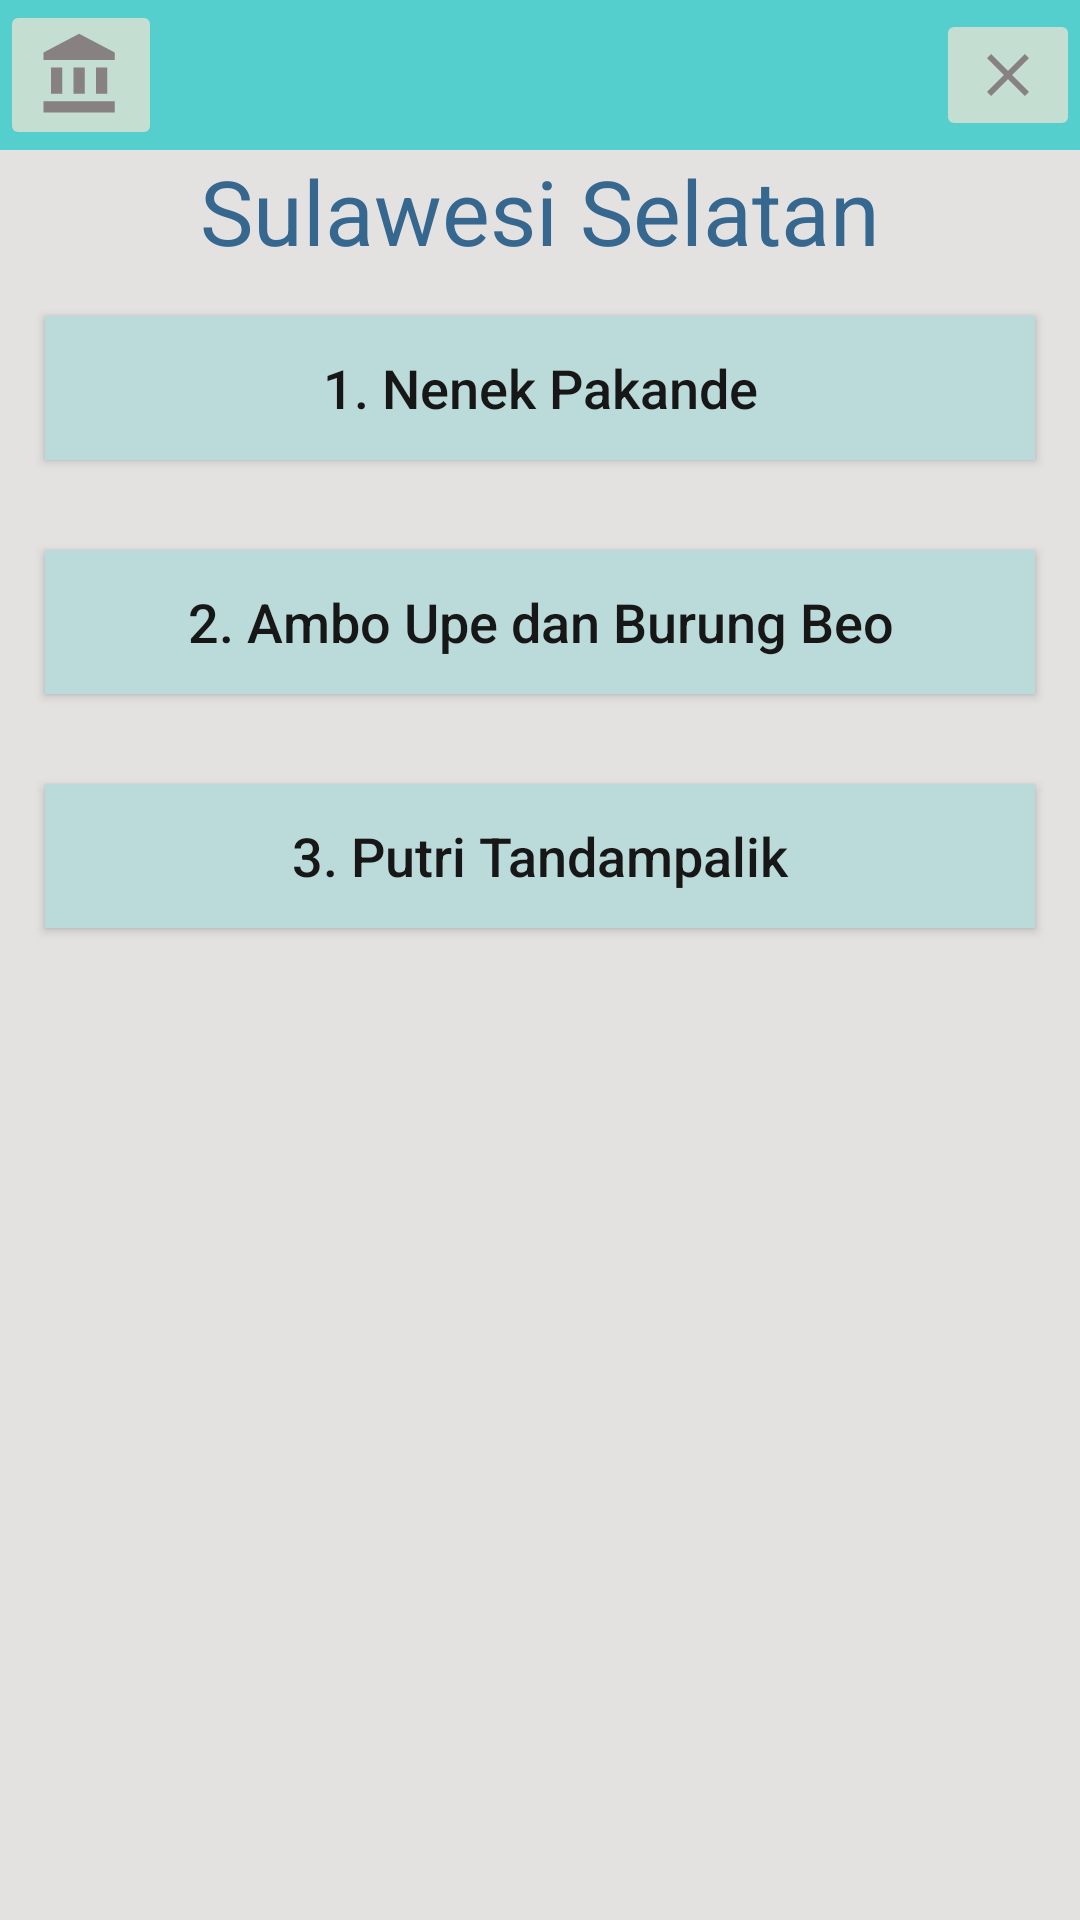

Screen size 1080w x 1920h. Icon name, then its center in pixels as [x,y]:
account balance: [81,75]
close: [1008,75]
